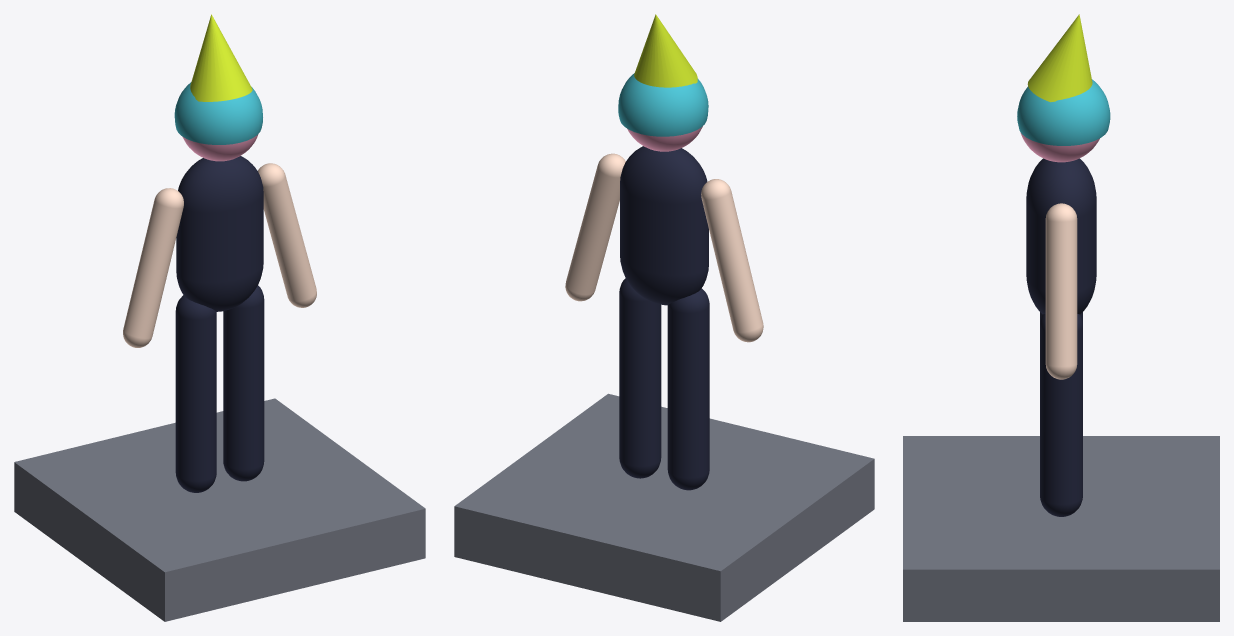
The model's file is mannequin.glb.
The picture shows the model from 3 angles, left to right: view 1: azimuth 30°, elevation 25°; view 2: azimuth 150°, elevation 25°; view 3: azimuth 270°, elevation 25°; orthographic projection. The views are drawn at different scales.
Visible parts, largest first — view 1: Pedestal, Torso, LegR, LegL, ArmR, ArmL, Hair, Hat, Head; view 2: Pedestal, Torso, LegR, LegL, ArmR, ArmL, Hair, Hat, Head; view 3: Pedestal, Torso, LegL, ArmL, Hair, Hat, Head.
Boxes of the visible parts, <box> form: Pedestal: <box>14,398,425,621</box>; Torso: <box>176,156,263,311</box>; LegR: <box>175,295,216,492</box>; LegL: <box>223,285,264,481</box>; ArmR: <box>123,188,183,347</box>; ArmL: <box>258,163,316,307</box>; Hair: <box>174,82,262,144</box>; Hat: <box>190,14,252,101</box>; Head: <box>182,134,258,161</box>; Pedestal: <box>454,393,874,621</box>; Torso: <box>620,146,708,305</box>; LegR: <box>667,288,709,490</box>; LegL: <box>619,278,661,478</box>; ArmR: <box>701,179,763,342</box>; ArmL: <box>565,153,625,301</box>; Hair: <box>618,73,708,136</box>; Hat: <box>634,14,697,87</box>; Head: <box>627,126,702,151</box>; Pedestal: <box>903,436,1219,621</box>; Torso: <box>1026,158,1096,314</box>; LegL: <box>1040,314,1082,516</box>; ArmL: <box>1045,203,1077,379</box>; Hair: <box>1017,79,1110,145</box>; Hat: <box>1027,14,1092,102</box>; Head: <box>1020,132,1099,162</box>.
Bounding box in the file's own units: 1.1 × 2.07 × 1.1.
